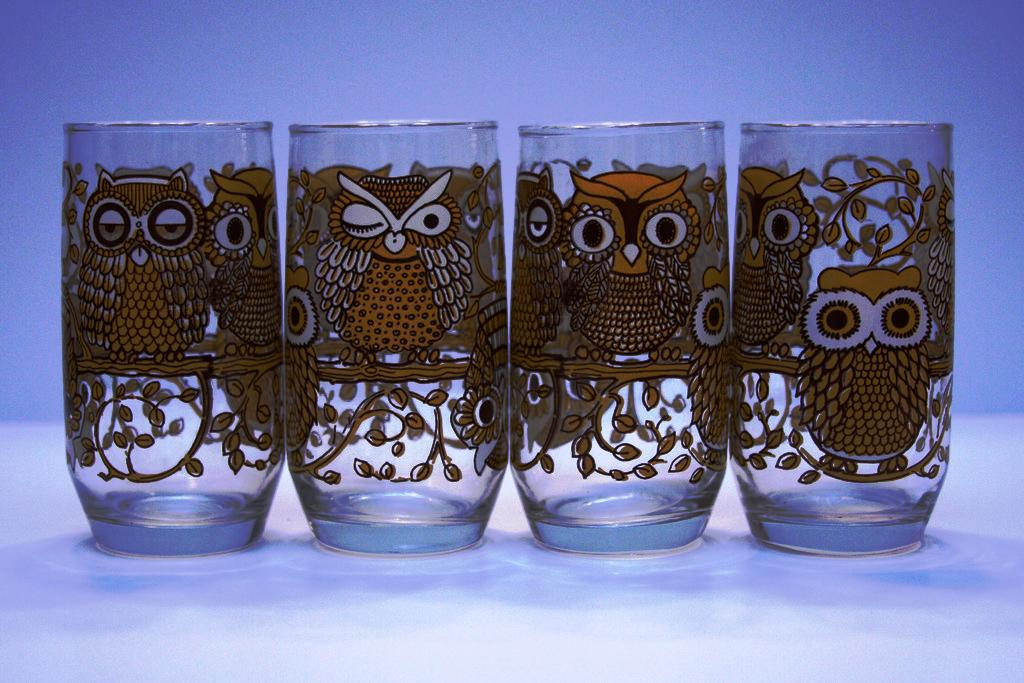Owl: (310, 172, 467, 358), (799, 266, 933, 471), (75, 165, 213, 364), (557, 166, 692, 362), (731, 168, 817, 356), (204, 163, 282, 355), (684, 260, 739, 466), (510, 166, 564, 358), (282, 266, 322, 470)
